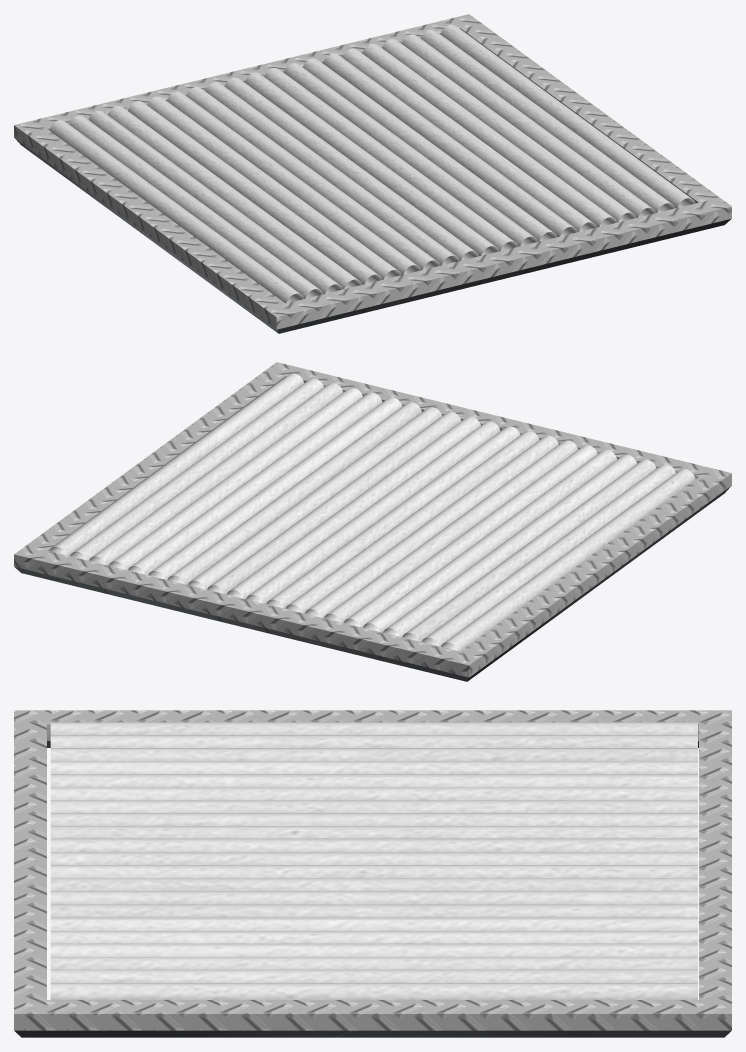
Rendered from NMCLight000.fbx.
3 views of the same model, one above another, from view 1: azimuth 30°, elevation 25°; view 2: azimuth 150°, elevation 25°; view 3: azimuth 270°, elevation 25° (orthographic). The views are drawn at different scales.
Visible parts, largest first — view 1: Light000; view 2: Light000; view 3: Light000.
Part boxes in pixels (bbox=[...]): Light000: bbox=[14, 14, 731, 333]; Light000: bbox=[14, 362, 731, 681]; Light000: bbox=[14, 710, 731, 1037].
Bounding box in the file's own units: 195 × 10.42 × 195.
1 material, 1 textured.
